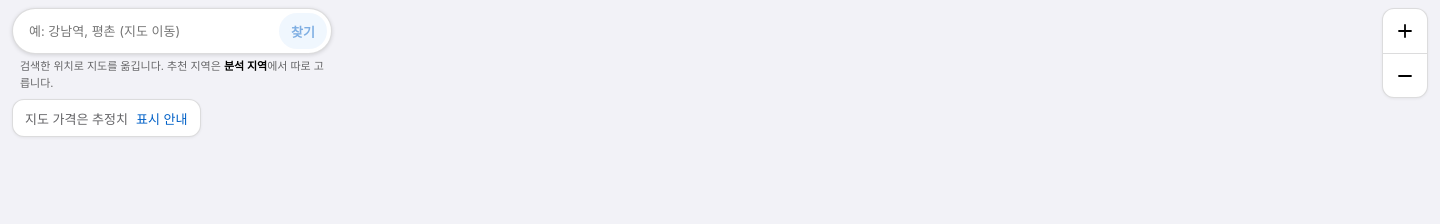
Test: SDK 로드가 실패할 때 › 지도가 준비되기 전에 결과를 고르면, 무반응 대신 못 옮겼다고 말한다
Type "강남역" into the search field named "장소·역 검색" at {"x": 146, "y": 31}, box left=17, top=13, right=275, bottom=49
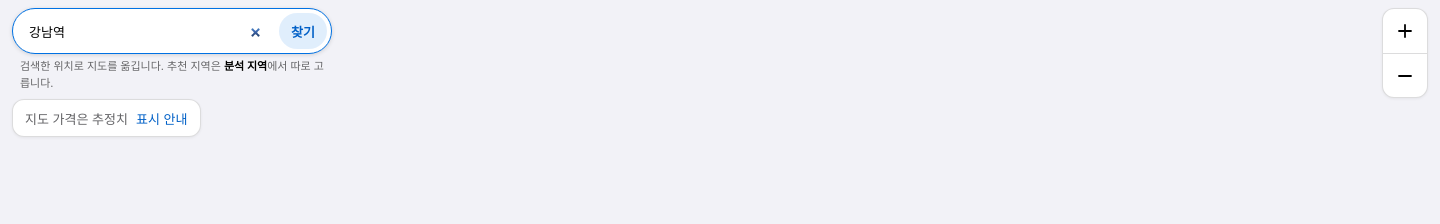
Click the button "찾기" at {"x": 303, "y": 31}, box left=279, top=13, right=327, bottom=49
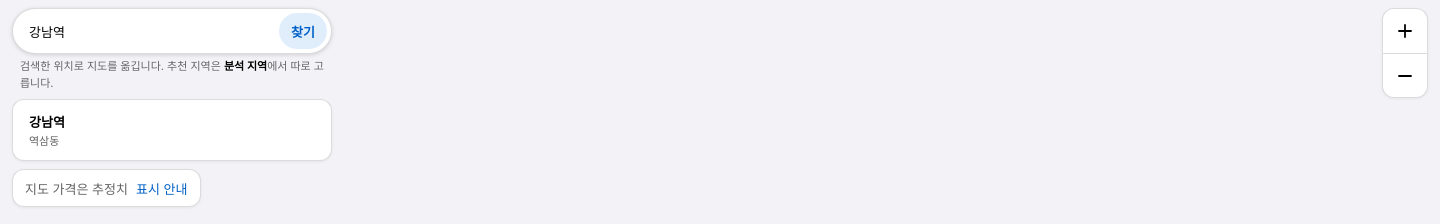
Click the button "강남역 역삼동" at {"x": 47, "y": 122}, box left=17, top=104, right=327, bottom=156
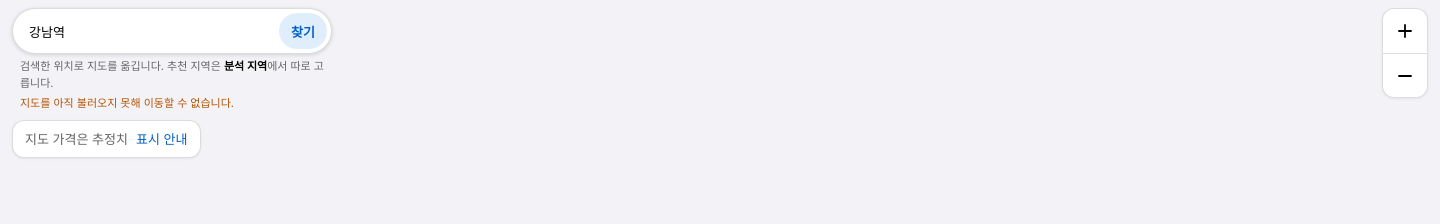
Now the text "지도를 아직 불러오지 못해 이동할 수 없습니다." is shown, box left=20, top=96, right=234, bottom=110
